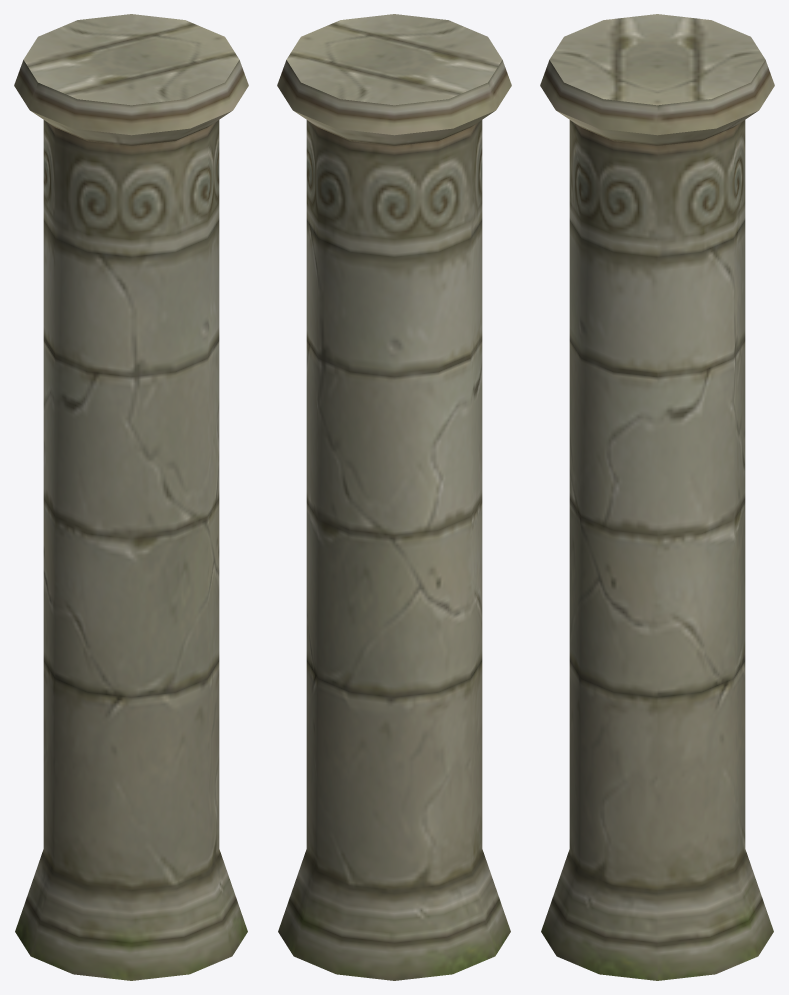
Rendered from GreenRuins01.FBX.
The picture shows the model from 3 angles, left to right: view 1: azimuth 30°, elevation 25°; view 2: azimuth 150°, elevation 25°; view 3: azimuth 270°, elevation 25°; orthographic projection.
Visible parts, largest first — view 1: GreenRuins01; view 2: GreenRuins01; view 3: GreenRuins01.
Boxes of the visible parts, <box> form: GreenRuins01: <box>14,14,248,980</box>; GreenRuins01: <box>277,14,511,980</box>; GreenRuins01: <box>540,14,774,980</box>.
Bounding box in the file's own units: 109 × 448 × 109.
